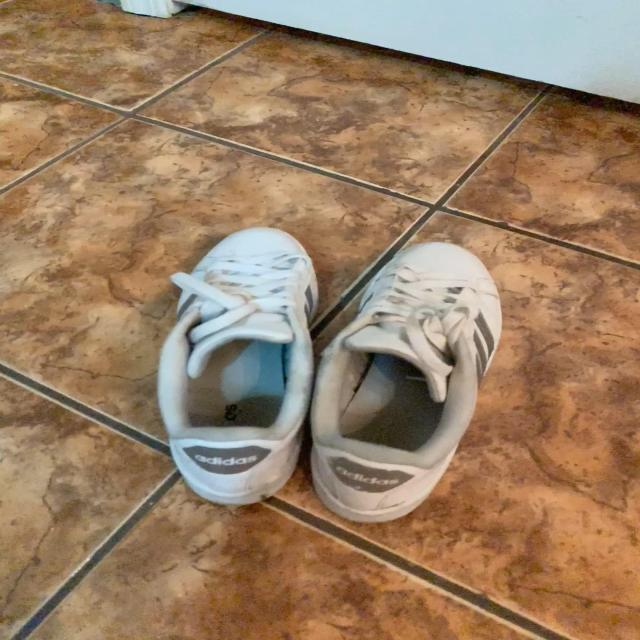shoe: (308, 241, 504, 524), (155, 227, 318, 508)
